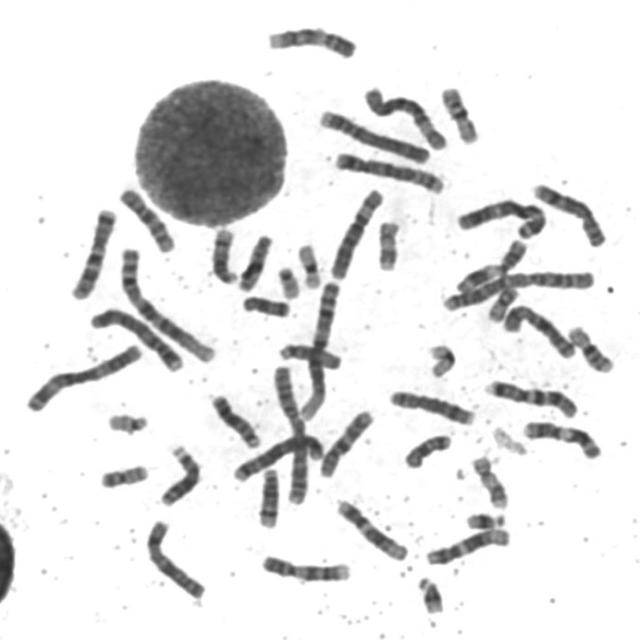A1: (115, 242, 218, 364), (296, 276, 345, 424)
A2: (438, 265, 596, 313), (267, 361, 312, 507)
A3: (20, 338, 146, 414), (452, 194, 550, 240)
B4: (312, 104, 432, 166), (84, 303, 187, 374)
B5: (330, 147, 447, 195), (228, 429, 328, 485)
C10: (314, 404, 378, 480), (114, 182, 178, 255)
C11: (450, 234, 531, 296), (519, 416, 604, 461)
C12: (331, 494, 411, 562), (422, 523, 513, 567)
C6: (359, 81, 449, 152), (326, 184, 386, 281)
C7: (66, 203, 119, 302), (480, 376, 580, 420)
C8: (528, 179, 610, 249), (385, 386, 478, 428)
C9: (262, 22, 359, 61), (255, 549, 354, 585)
D13: (206, 390, 264, 450), (156, 441, 202, 508)
D14: (207, 223, 240, 285), (253, 463, 282, 530)
D15: (233, 230, 276, 294), (275, 338, 344, 372)
E16: (436, 82, 482, 146), (563, 321, 617, 375)
E17: (467, 452, 511, 511), (373, 216, 402, 273)
E18: (400, 430, 454, 470), (238, 291, 292, 319)
F19: (293, 239, 325, 291), (424, 339, 458, 380)
F20: (482, 282, 522, 324), (95, 460, 151, 490)
G21: (412, 571, 447, 616), (461, 507, 508, 532)
G22: (102, 408, 150, 435), (273, 262, 302, 301)
X: (141, 515, 208, 602), (499, 301, 578, 361)
